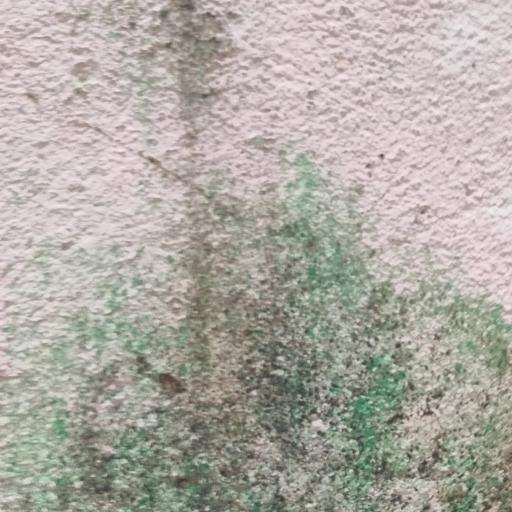algae: (7, 147, 512, 512)
